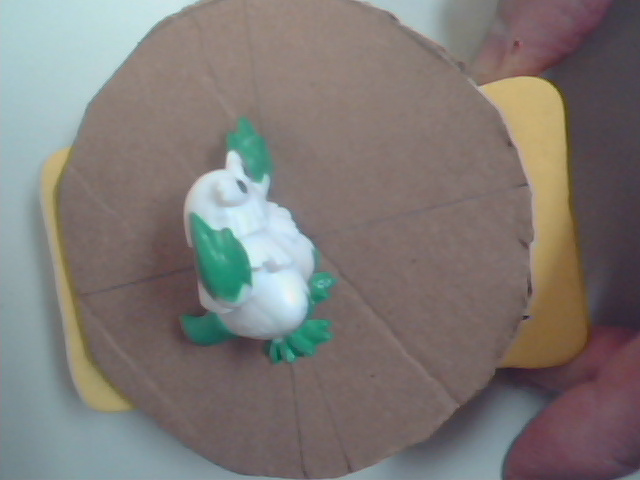abomasnow: (164, 119, 453, 380)
